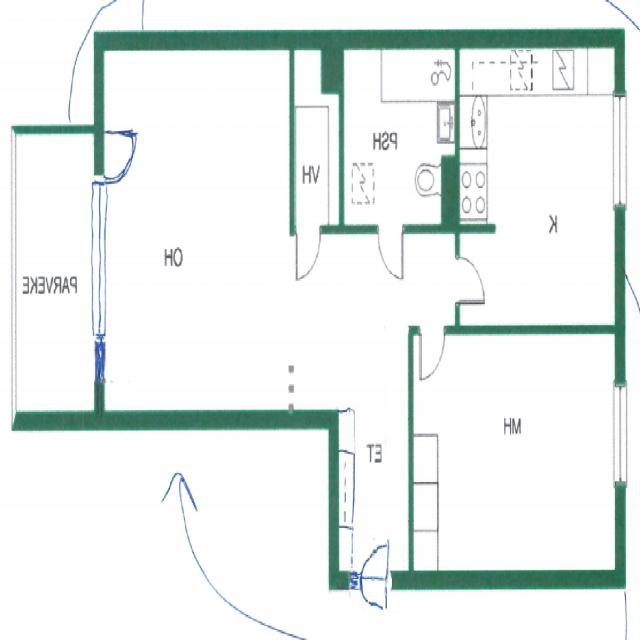door: (60, 342, 104, 404), (94, 342, 138, 404), (342, 516, 371, 588), (342, 569, 371, 640), (290, 356, 322, 403), (455, 256, 485, 304), (419, 325, 444, 380), (378, 225, 402, 279), (296, 225, 320, 278)
